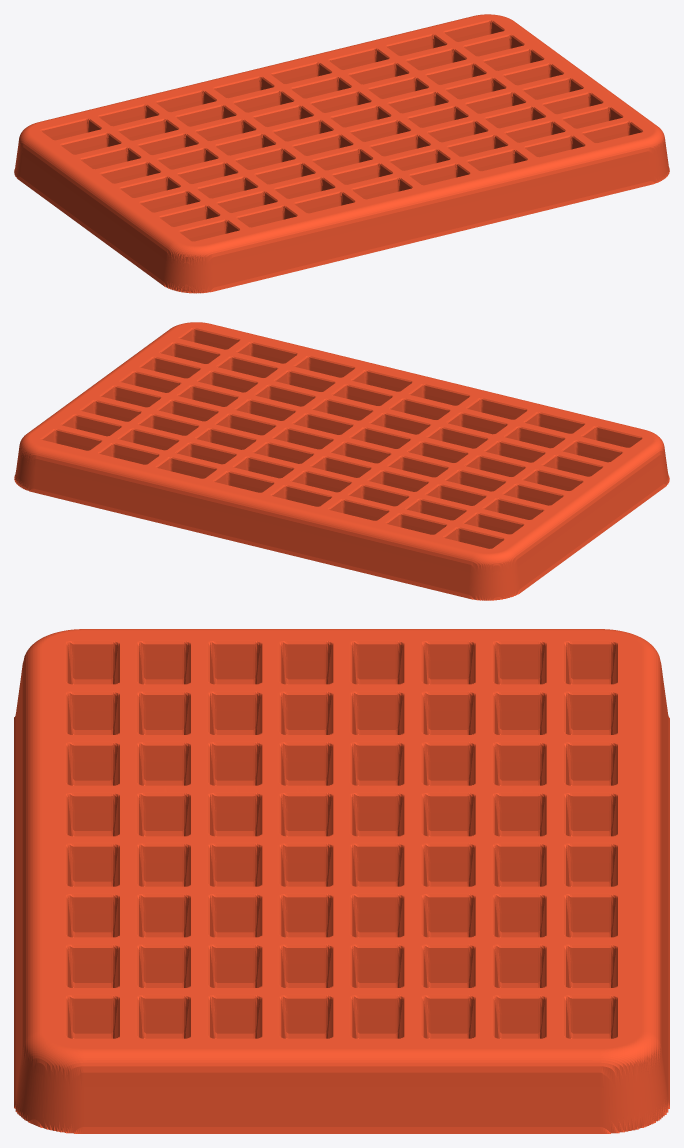
File: mold.glb
3 views of the same model, one above another, from view 1: azimuth 30°, elevation 25°; view 2: azimuth 150°, elevation 25°; view 3: azimuth 270°, elevation 25° (orthographic). The views are drawn at different scales.
Parts seen in each view (by area): view 1: geometry_0; view 2: geometry_0; view 3: geometry_0.
Part boxes in pixels (left/top/right/bottom): geometry_0: left=14, top=14, right=669, bottom=293; geometry_0: left=14, top=322, right=669, bottom=600; geometry_0: left=14, top=629, right=669, bottom=1133.
Size of the model in its own units: 0.1355 by 0.0105 by 0.0851.
